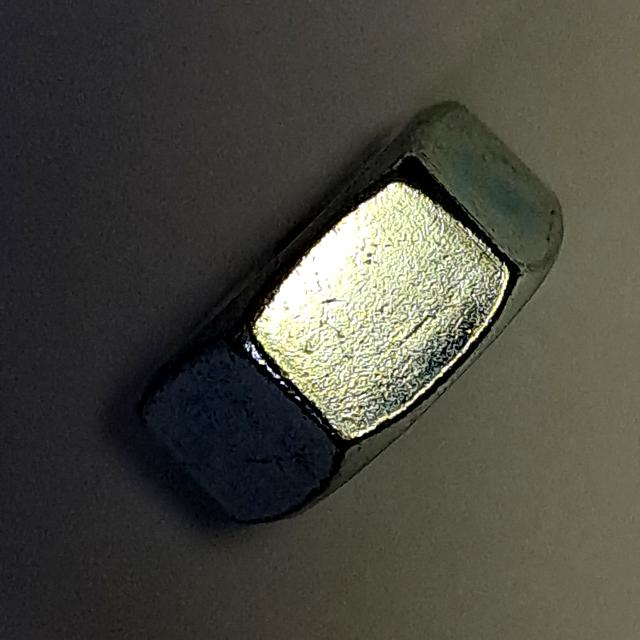Side_Excellent: (128, 85, 581, 544)
